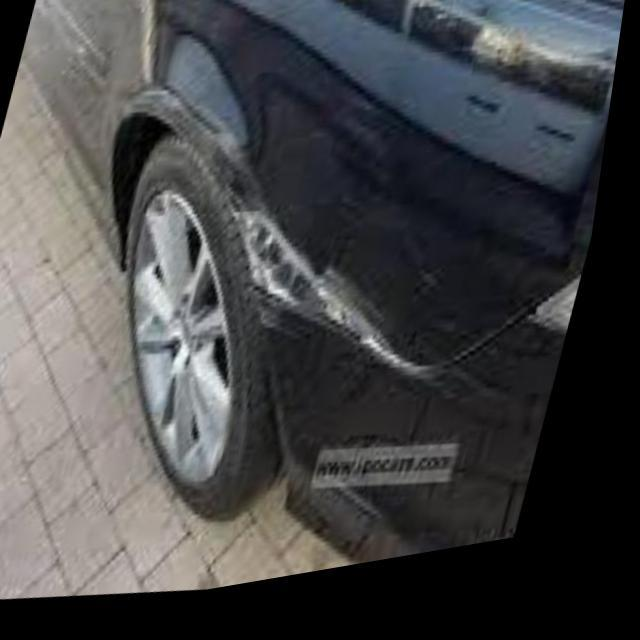dislocated part: (247, 201, 452, 431)
